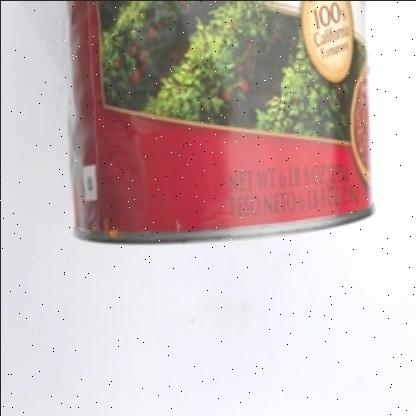Can: (66, 0, 374, 246)
